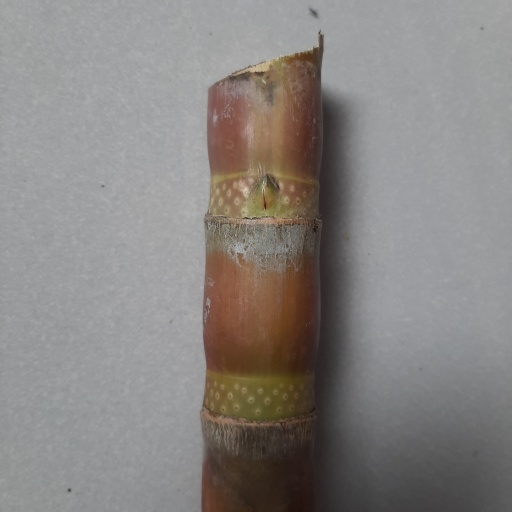Bud: (253, 173, 281, 210)
